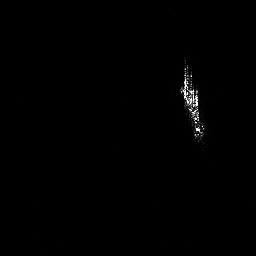ship: (178, 59, 205, 144)
